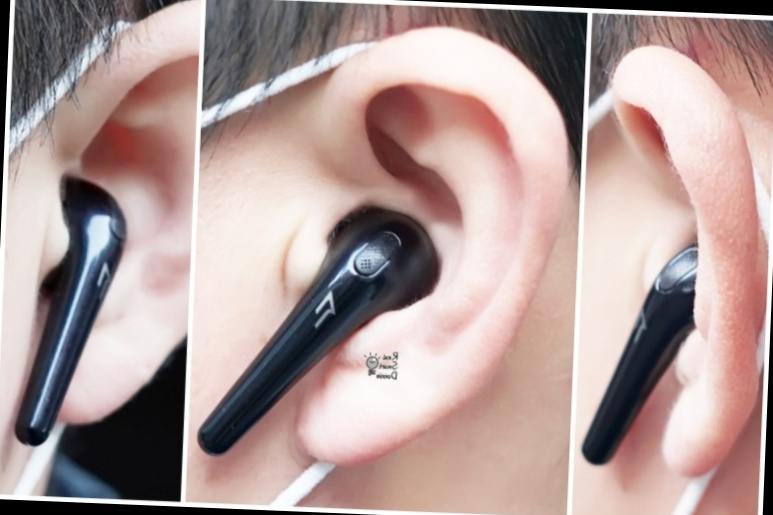earphone: (194, 18, 574, 480), (12, 0, 200, 453), (580, 44, 773, 482)
